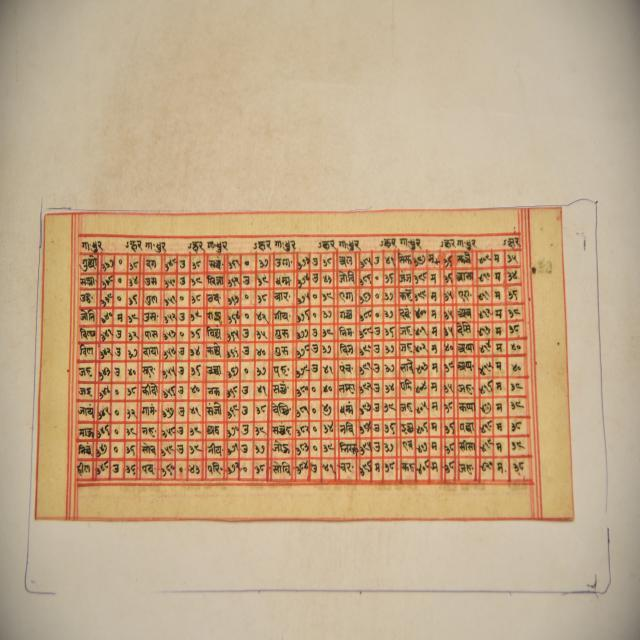text_paragraph: (32, 204, 572, 518)
